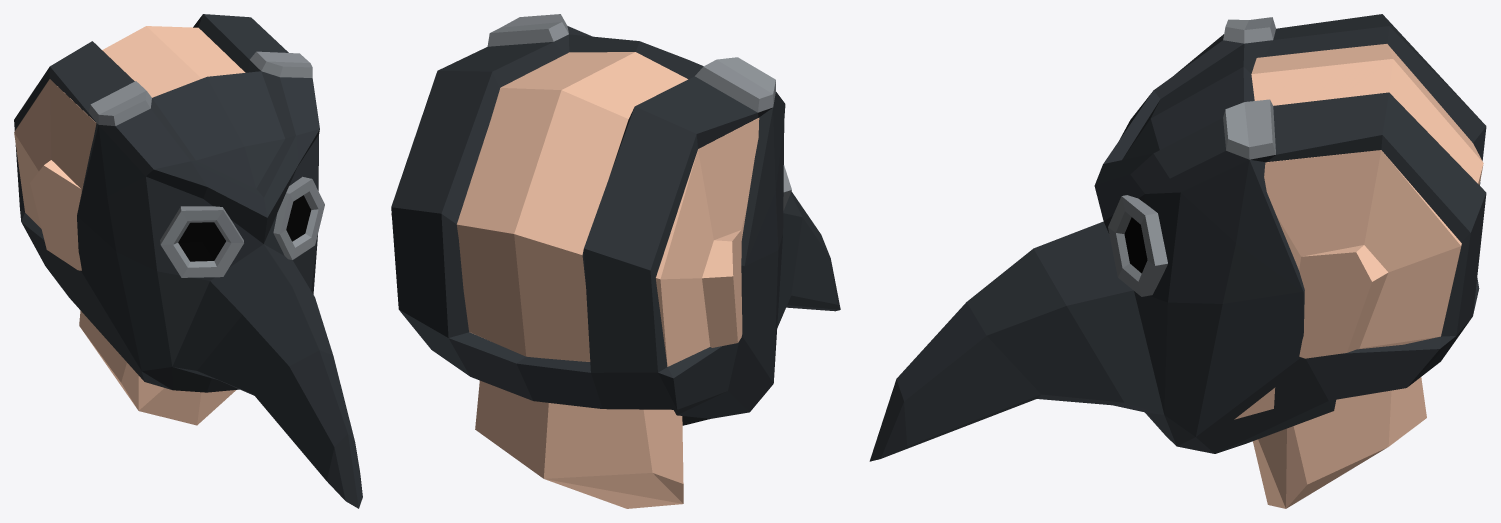
Rendered from Chr_Head_No_Elements_Female_01_Static.fbx.
The picture shows the model from 3 angles, left to right: view 1: azimuth 30°, elevation 25°; view 2: azimuth 150°, elevation 25°; view 3: azimuth 270°, elevation 25°; orthographic projection. The views are drawn at different scales.
Parts seen in each view (by area): view 1: Chr_Head_No_Elements_Female_01_Static; view 2: Chr_Head_No_Elements_Female_01_Static; view 3: Chr_Head_No_Elements_Female_01_Static.
Part boxes in pixels (x1,y1,x2,y2): Chr_Head_No_Elements_Female_01_Static: [14, 14, 362, 508]; Chr_Head_No_Elements_Female_01_Static: [391, 14, 840, 508]; Chr_Head_No_Elements_Female_01_Static: [869, 14, 1486, 508].
Bounding box in the file's own units: 0.2661 × 0.3693 × 0.463.
